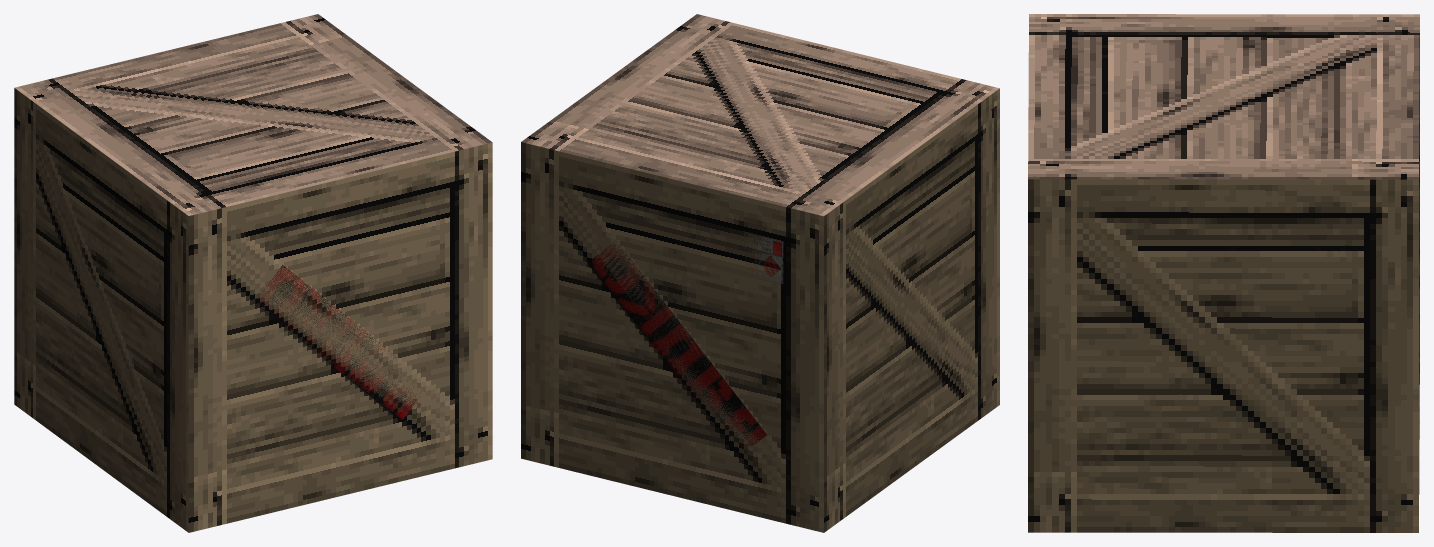
File: primary_070.glb
3 renders of one model, left to right at view 1: azimuth 30°, elevation 25°; view 2: azimuth 150°, elevation 25°; view 3: azimuth 270°, elevation 25°, orthographic. The views are drawn at different scales.
Visible parts, largest first — view 1: Object; view 2: Object; view 3: Object.
Boxes of the visible parts, x1,y1,x2,y2 form: Object: [14, 14, 492, 532]; Object: [521, 14, 999, 532]; Object: [1028, 14, 1419, 532].
Bounding box in the file's own units: 1.36 × 1.36 × 1.36.
7 materials, 7 textured.
